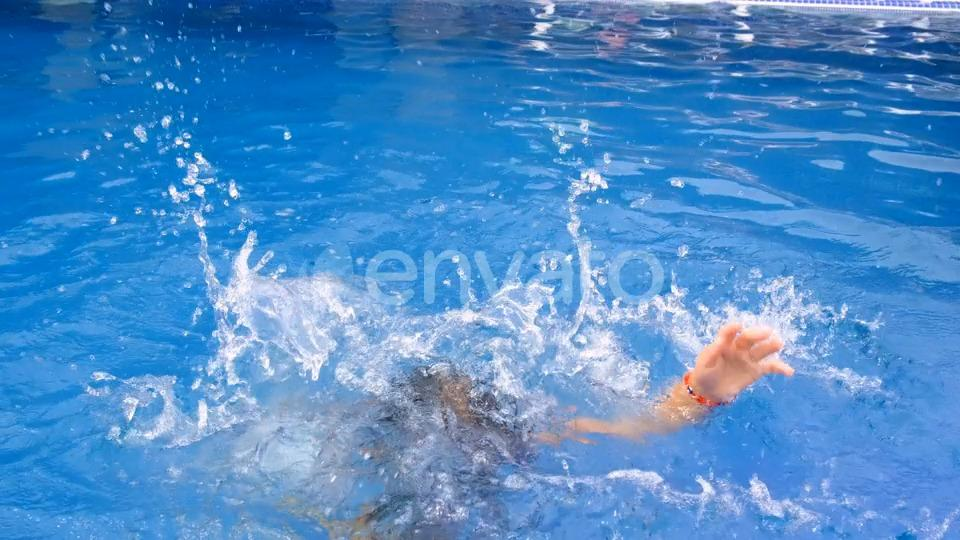Swimming: (145, 188, 823, 476)
